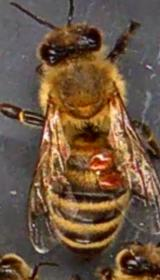varroa_mite: (89, 160, 129, 189), (85, 147, 116, 173)
